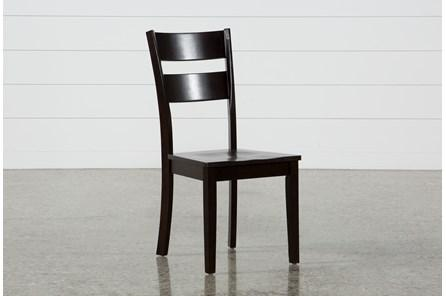chair: (136, 20, 323, 282)
